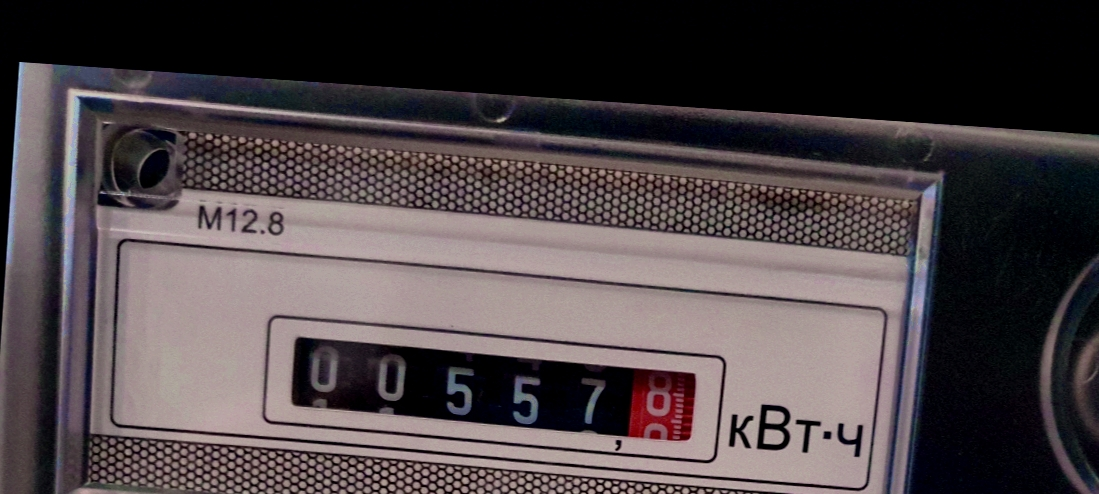0: (306, 340, 344, 398), (373, 350, 410, 404)
5: (506, 368, 548, 429), (441, 361, 479, 420)
7: (572, 372, 609, 429)
8: (644, 370, 675, 421)
screen: (257, 307, 733, 470)
